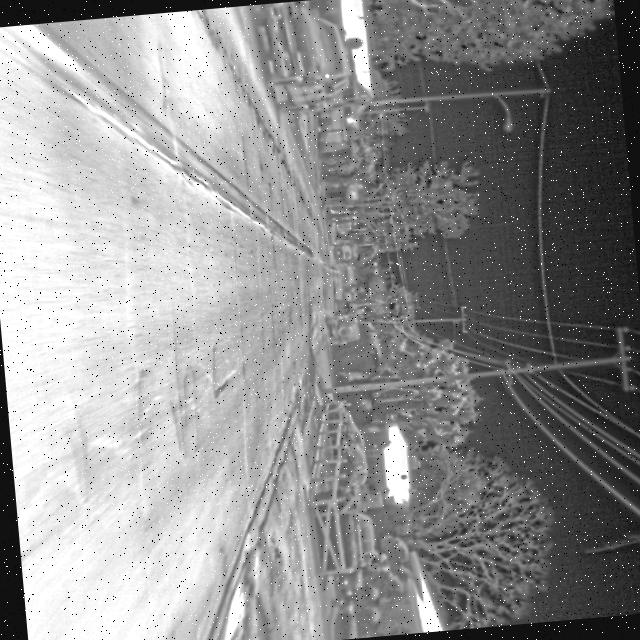Vehicle: (248, 0, 357, 117), (324, 312, 361, 346)
